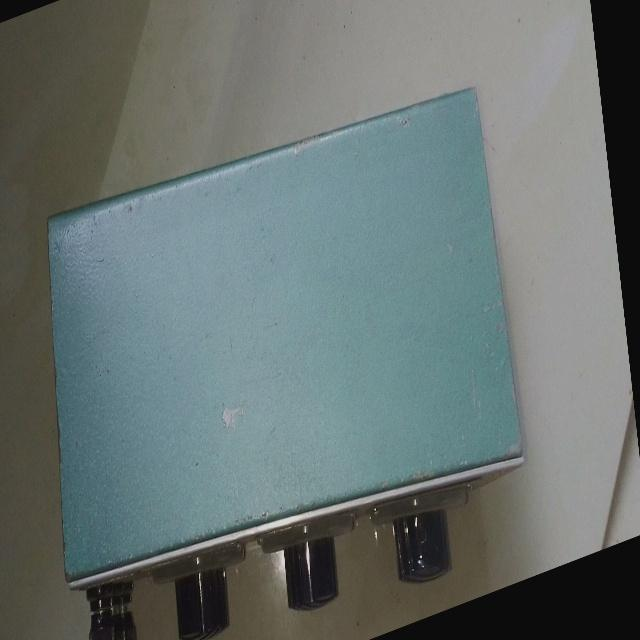Dial Resistance Box: (20, 29, 544, 640)
